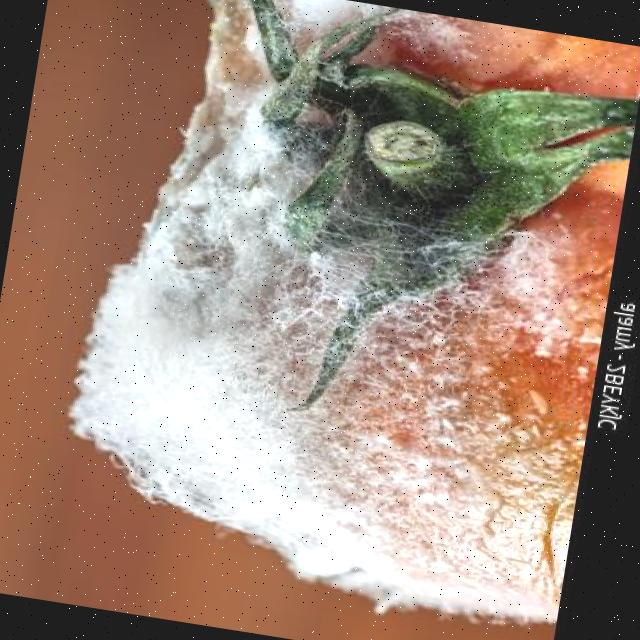Rotten: (39, 0, 640, 639)
